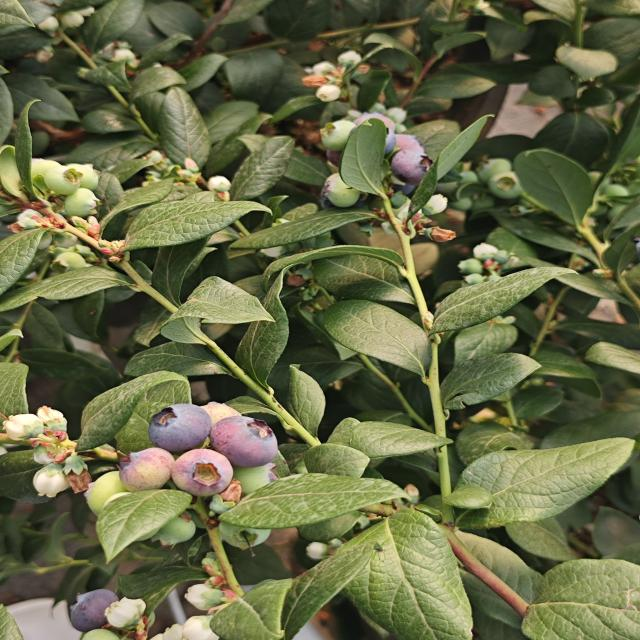ripe: (207, 410, 280, 470), (144, 397, 216, 456), (388, 137, 436, 190), (68, 587, 117, 626), (361, 118, 402, 162)
